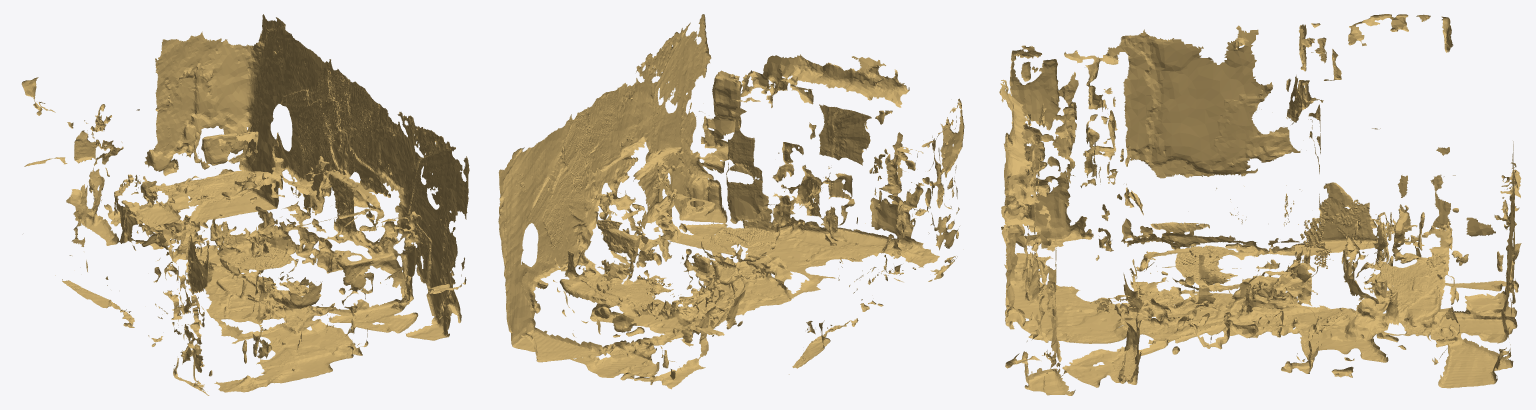
Rendered from mvs-hybrid-more-additions.glb.
3 views of the same model, side by side, from view 1: azimuth 30°, elevation 25°; view 2: azimuth 150°, elevation 25°; view 3: azimuth 270°, elevation 25° (orthographic). The views are drawn at different scales.
Visible parts, largest first — view 1: additions_simple.ply; view 2: additions_simple.ply; view 3: additions_simple.ply.
Part boxes in pixels (left/top/right/bottom): additions_simple.ply: left=21, top=14, right=469, bottom=395; additions_simple.ply: left=498, top=14, right=964, bottom=389; additions_simple.ply: left=999, top=14, right=1521, bottom=395.
Bounding box in the file's own units: 4.21 × 2.79 × 5.78.
